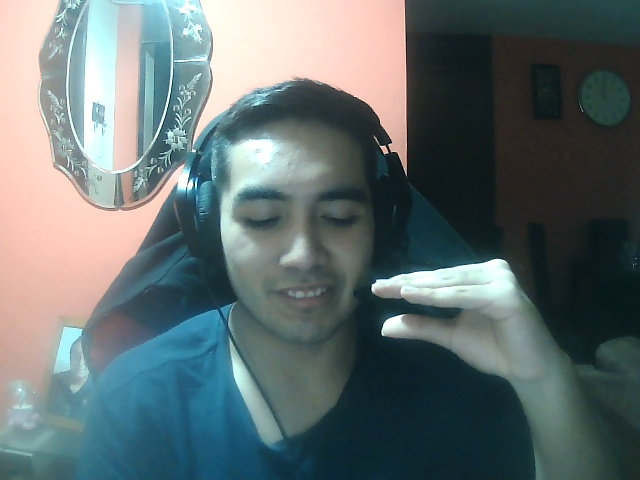no: (364, 254, 574, 380)
